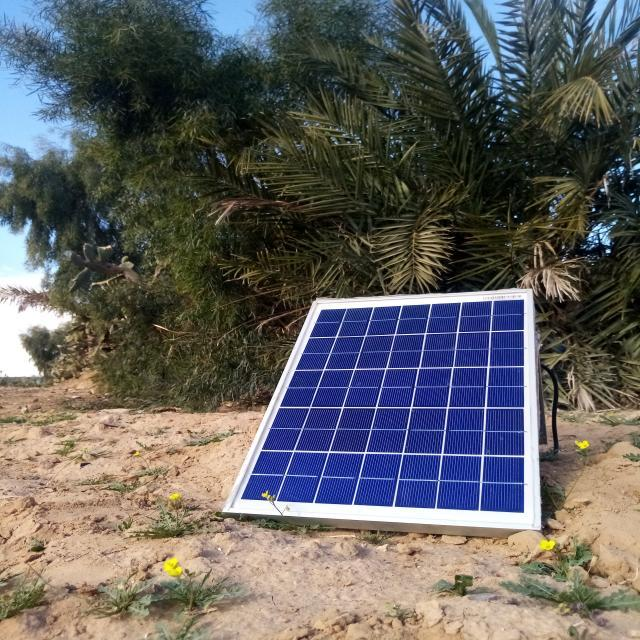no faulty: (227, 290, 539, 528)
